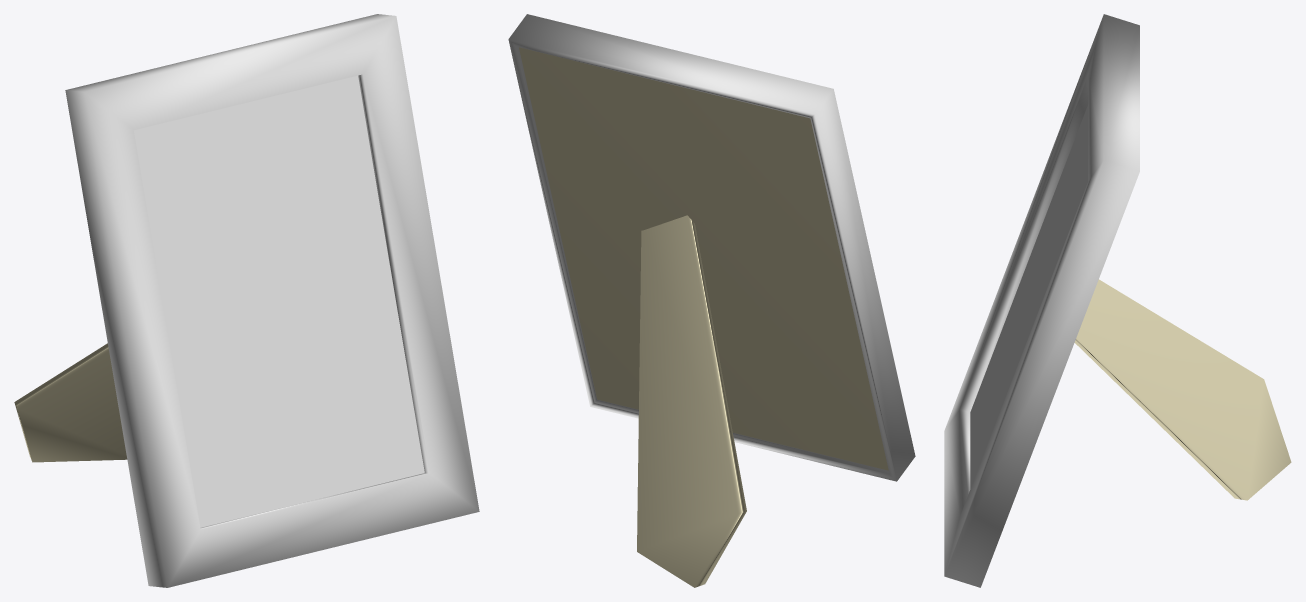
The model's file is frame_picture.fbx.
3 renders of one model, left to right at view 1: azimuth 30°, elevation 25°; view 2: azimuth 150°, elevation 25°; view 3: azimuth 270°, elevation 25°, orthographic. The views are drawn at different scales.
Parts seen in each view (by area): view 1: polySurface1, polySurface2; view 2: polySurface2; view 3: polySurface2, polySurface1.
Boxes of the visible parts, left/top/right/bottom form: polySurface1: left=133, top=75, right=424, bottom=527; polySurface2: left=14, top=14, right=479, bottom=587; polySurface2: left=508, top=14, right=915, bottom=587; polySurface2: left=944, top=14, right=1291, bottom=587; polySurface1: left=970, top=104, right=1088, bottom=488.
Size of the model in its own units: 2 by 2.74 by 2.01.
